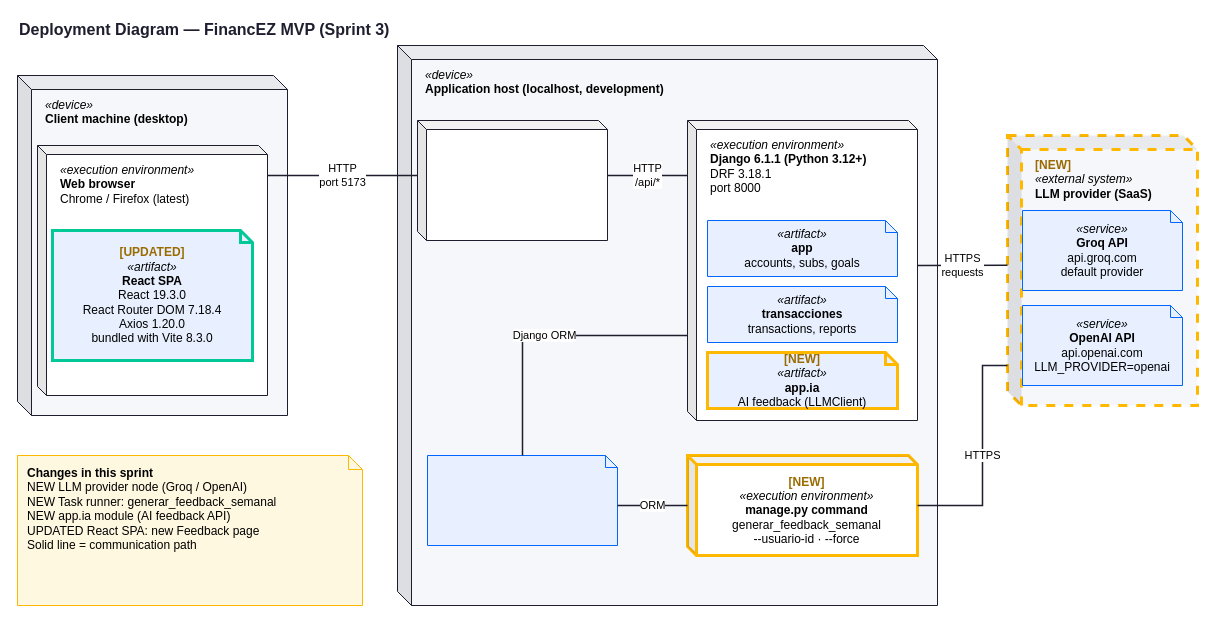
Image size: 1216x623. Some labels were removed from this diagram. Each missing label, with the centre of its shape:
"«database» db.sqlite3 SQLite 3 via Python sqlite3 module" goes at (x=522, y=500).
"«execution environment» Vite dev server 8.3.0 port 5173 proxies /api to :8000" goes at (x=512, y=180).
